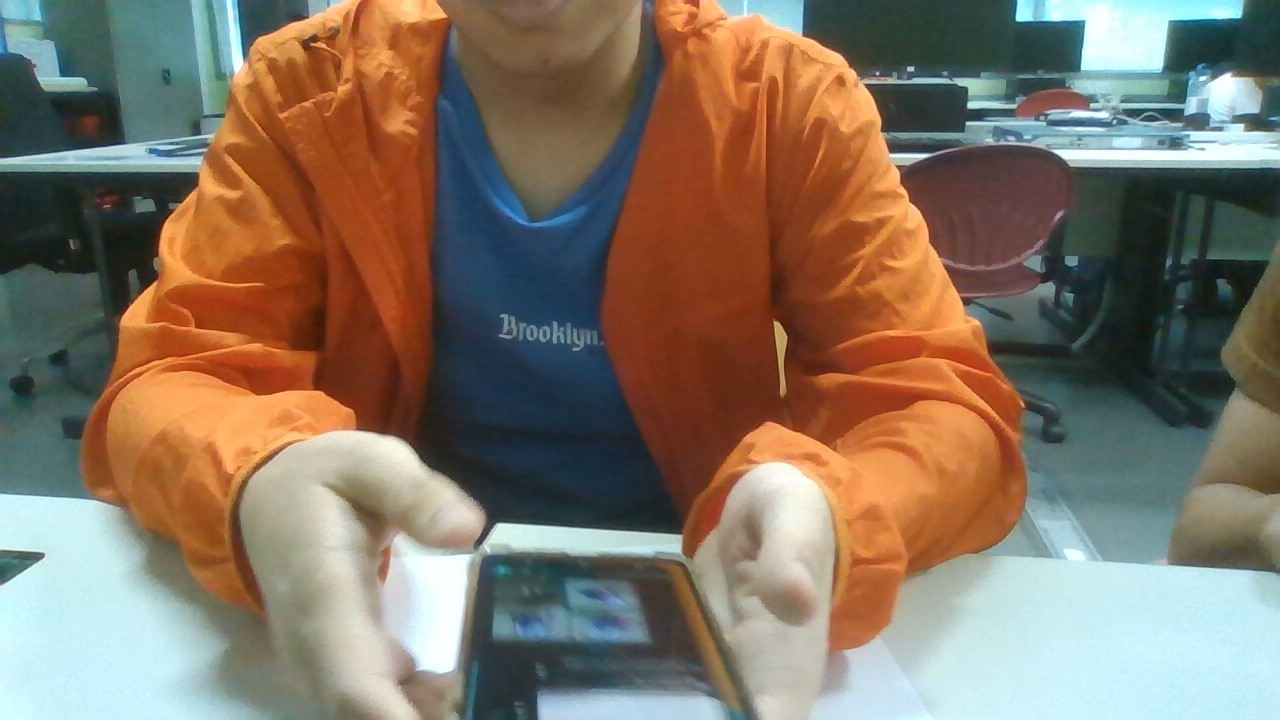phone: (452, 539, 757, 720)
